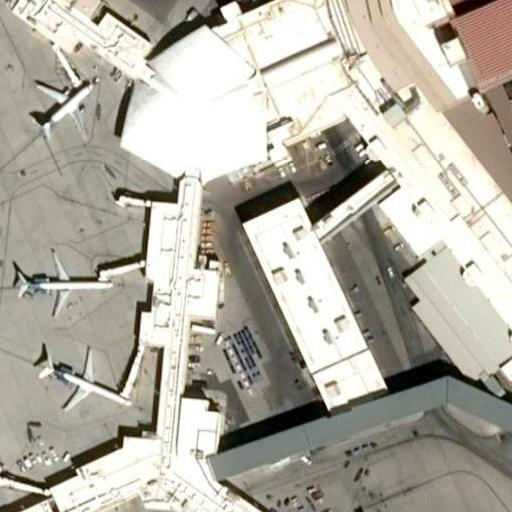Aircraft: (10, 250, 113, 315), (36, 343, 130, 412), (26, 71, 95, 141)
